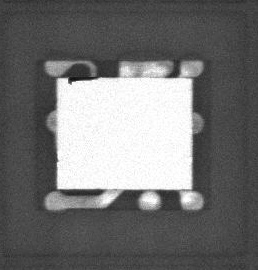DIE_BROKEN: (66, 74, 99, 85)
